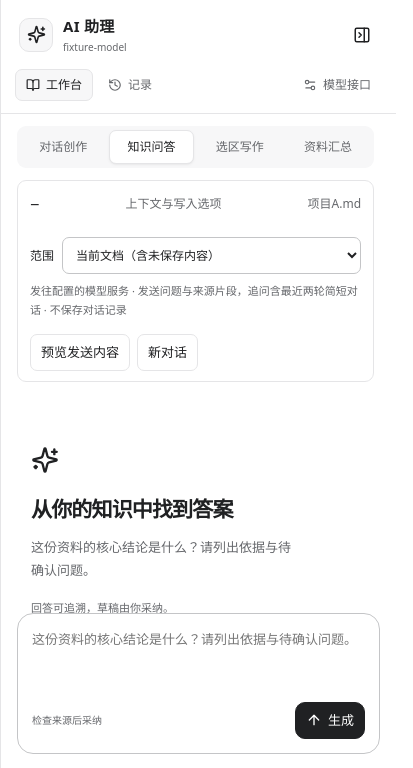
Test: AI workspace › previews outgoing evidence without a model call
The image size is (413, 768).
Expected: the text "fixture-model" is shown, [63,39,127,55]
What coordinates should you click on to do the following:
click the button "预览发送内容"
I would click on:
 (80, 352)
Its box is [30,334,130,371].
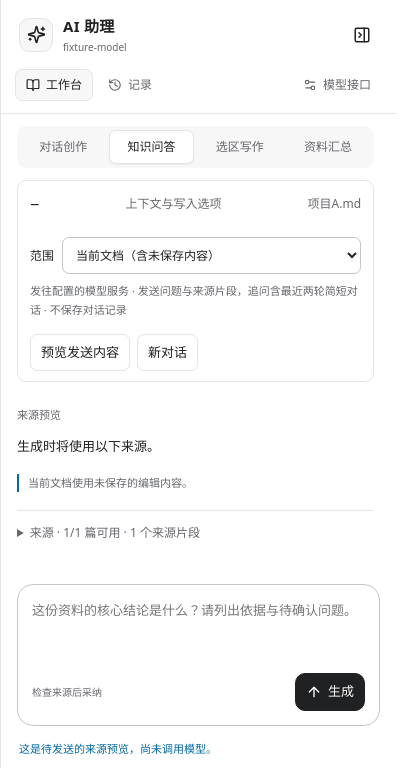
Now the text "这是待发送的来源预览，尚未调用模型。" is shown, box [1,740,396,767]
